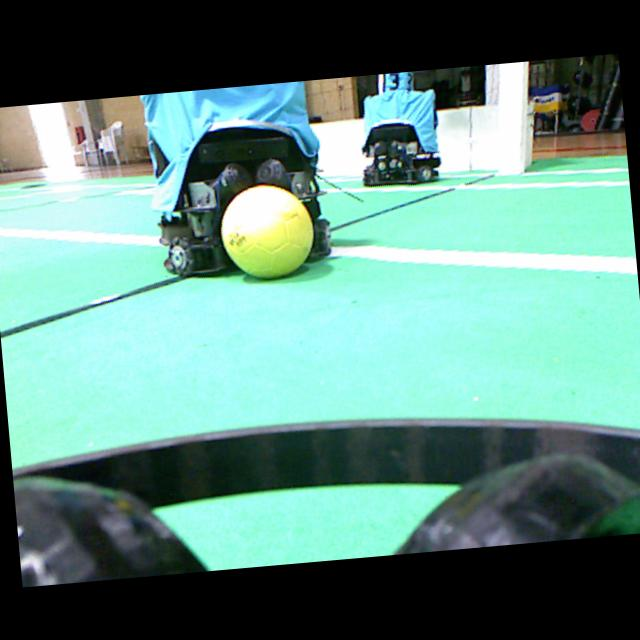ball: (220, 184, 313, 277)
goal: (497, 61, 531, 174)
